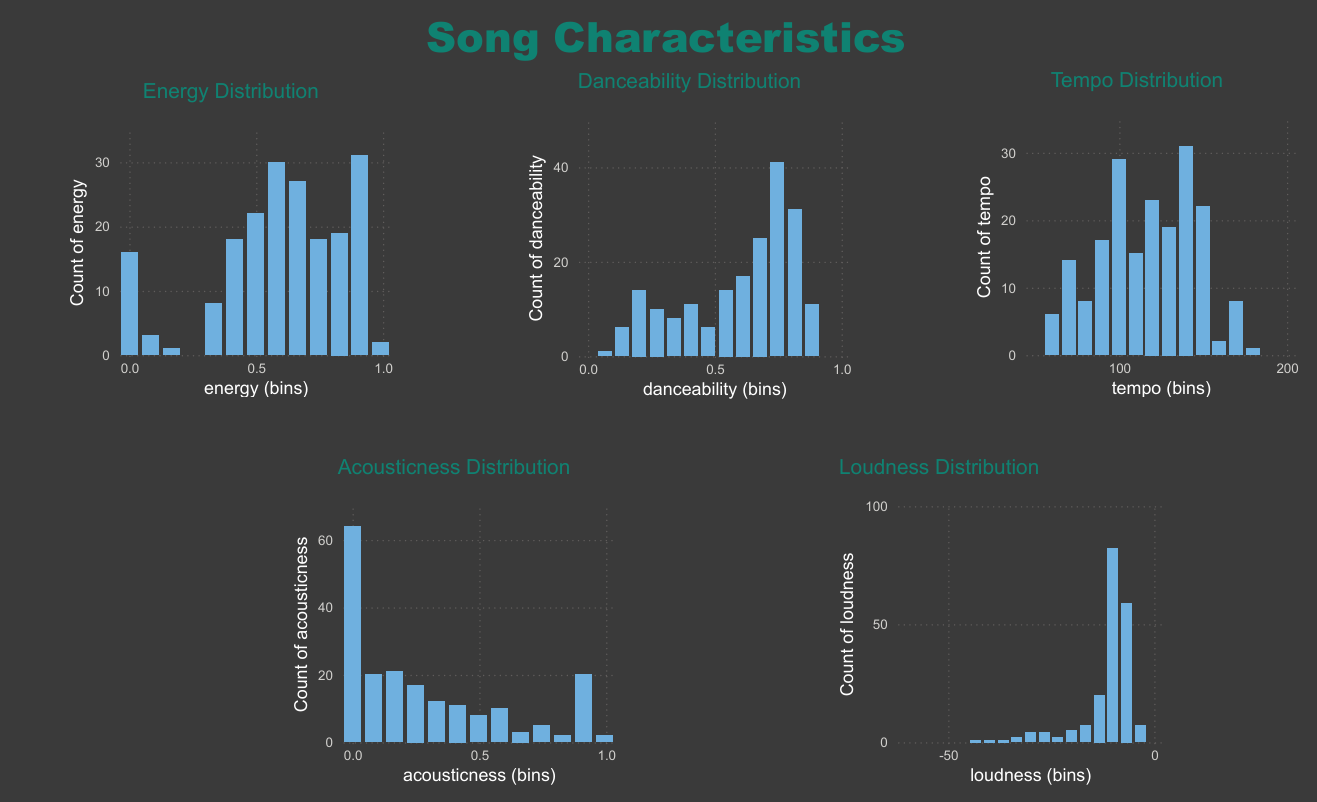

The page's visual inventory and layout, read from the dashboard file:
{"tool":"powerbi","page":{"name":"Page 2","canvas":[1280,720],"ordinal":1},"visuals":[{"type":"actionButton","box":[0,0,100,40],"z":0},{"type":"columnChart","title":"Energy Distribution","fields":{"Category":["spotify_cleaned (2).energy (bins)"],"Y":["CountNonNull(spotify_cleaned (2).energy)"]},"box":[100,70.2,300,289.3],"z":1000},{"type":"columnChart","title":"Danceability Distribution","fields":{"Category":["spotify_cleaned (2).danceability (bins)"],"Y":["CountNonNull(spotify_cleaned (2).danceability)"]},"box":[510.7,60.7,300,300],"z":2000},{"type":"columnChart","title":"Tempo Distribution","fields":{"Y":["CountNonNull(spotify_cleaned (2).tempo)"],"Category":["spotify_cleaned (2).tempo (bins)"]},"box":[911.6,60.5,300,300],"z":3000},{"type":"columnChart","title":"Acousticness Distribution","fields":{"Category":["spotify_cleaned (2).acousticness (bins)"],"Y":["CountNonNull(spotify_cleaned (2).acousticness)"]},"box":[300,407,300,300],"z":4000},{"type":"columnChart","title":"Loudness Distribution","fields":{"Category":["spotify_cleaned (2).loudness (bins)"],"Y":["CountNonNull(spotify_cleaned (2).loudness)"]},"box":[789.5,407,300,300],"z":5000},{"type":"textbox","box":[50,407,150,300],"z":6000},{"type":"textbox","box":[600,407,190,300],"z":7000},{"type":"textbox","box":[50,0,1188.4,60.5],"z":8000}]}

Visuals, with their boxes on the page's 1280x720 design canvas (x1, y1, x2, y2). These are canvas units, not pixel positions in the 1317x802 screenshot, which may show the page scaled, cropped or inside an application window:
actionButton: BBox(0, 0, 100, 40)
"Energy Distribution" columnChart: BBox(100, 70, 400, 360)
"Danceability Distribution" columnChart: BBox(511, 61, 811, 361)
"Tempo Distribution" columnChart: BBox(912, 60, 1212, 360)
"Acousticness Distribution" columnChart: BBox(300, 407, 600, 707)
"Loudness Distribution" columnChart: BBox(790, 407, 1090, 707)
textbox: BBox(50, 407, 200, 707)
textbox: BBox(600, 407, 790, 707)
textbox: BBox(50, 0, 1238, 60)
